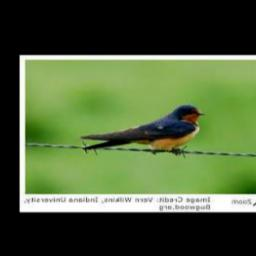Swallow: (80, 104, 205, 151)
